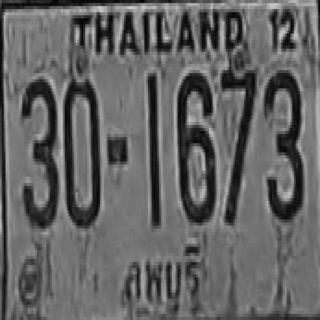N00: (63, 76, 100, 225)
N01: (146, 73, 159, 226)
N03: (263, 67, 301, 220), (20, 76, 57, 225)
N06: (176, 70, 215, 222)
N07: (220, 66, 255, 224), (220, 66, 255, 190)
P23: (119, 240, 212, 320)
